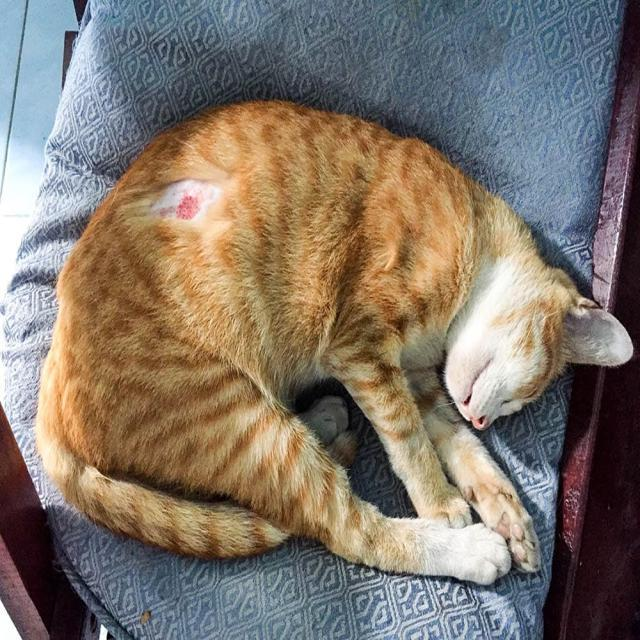hac lao: (117, 168, 290, 275)
